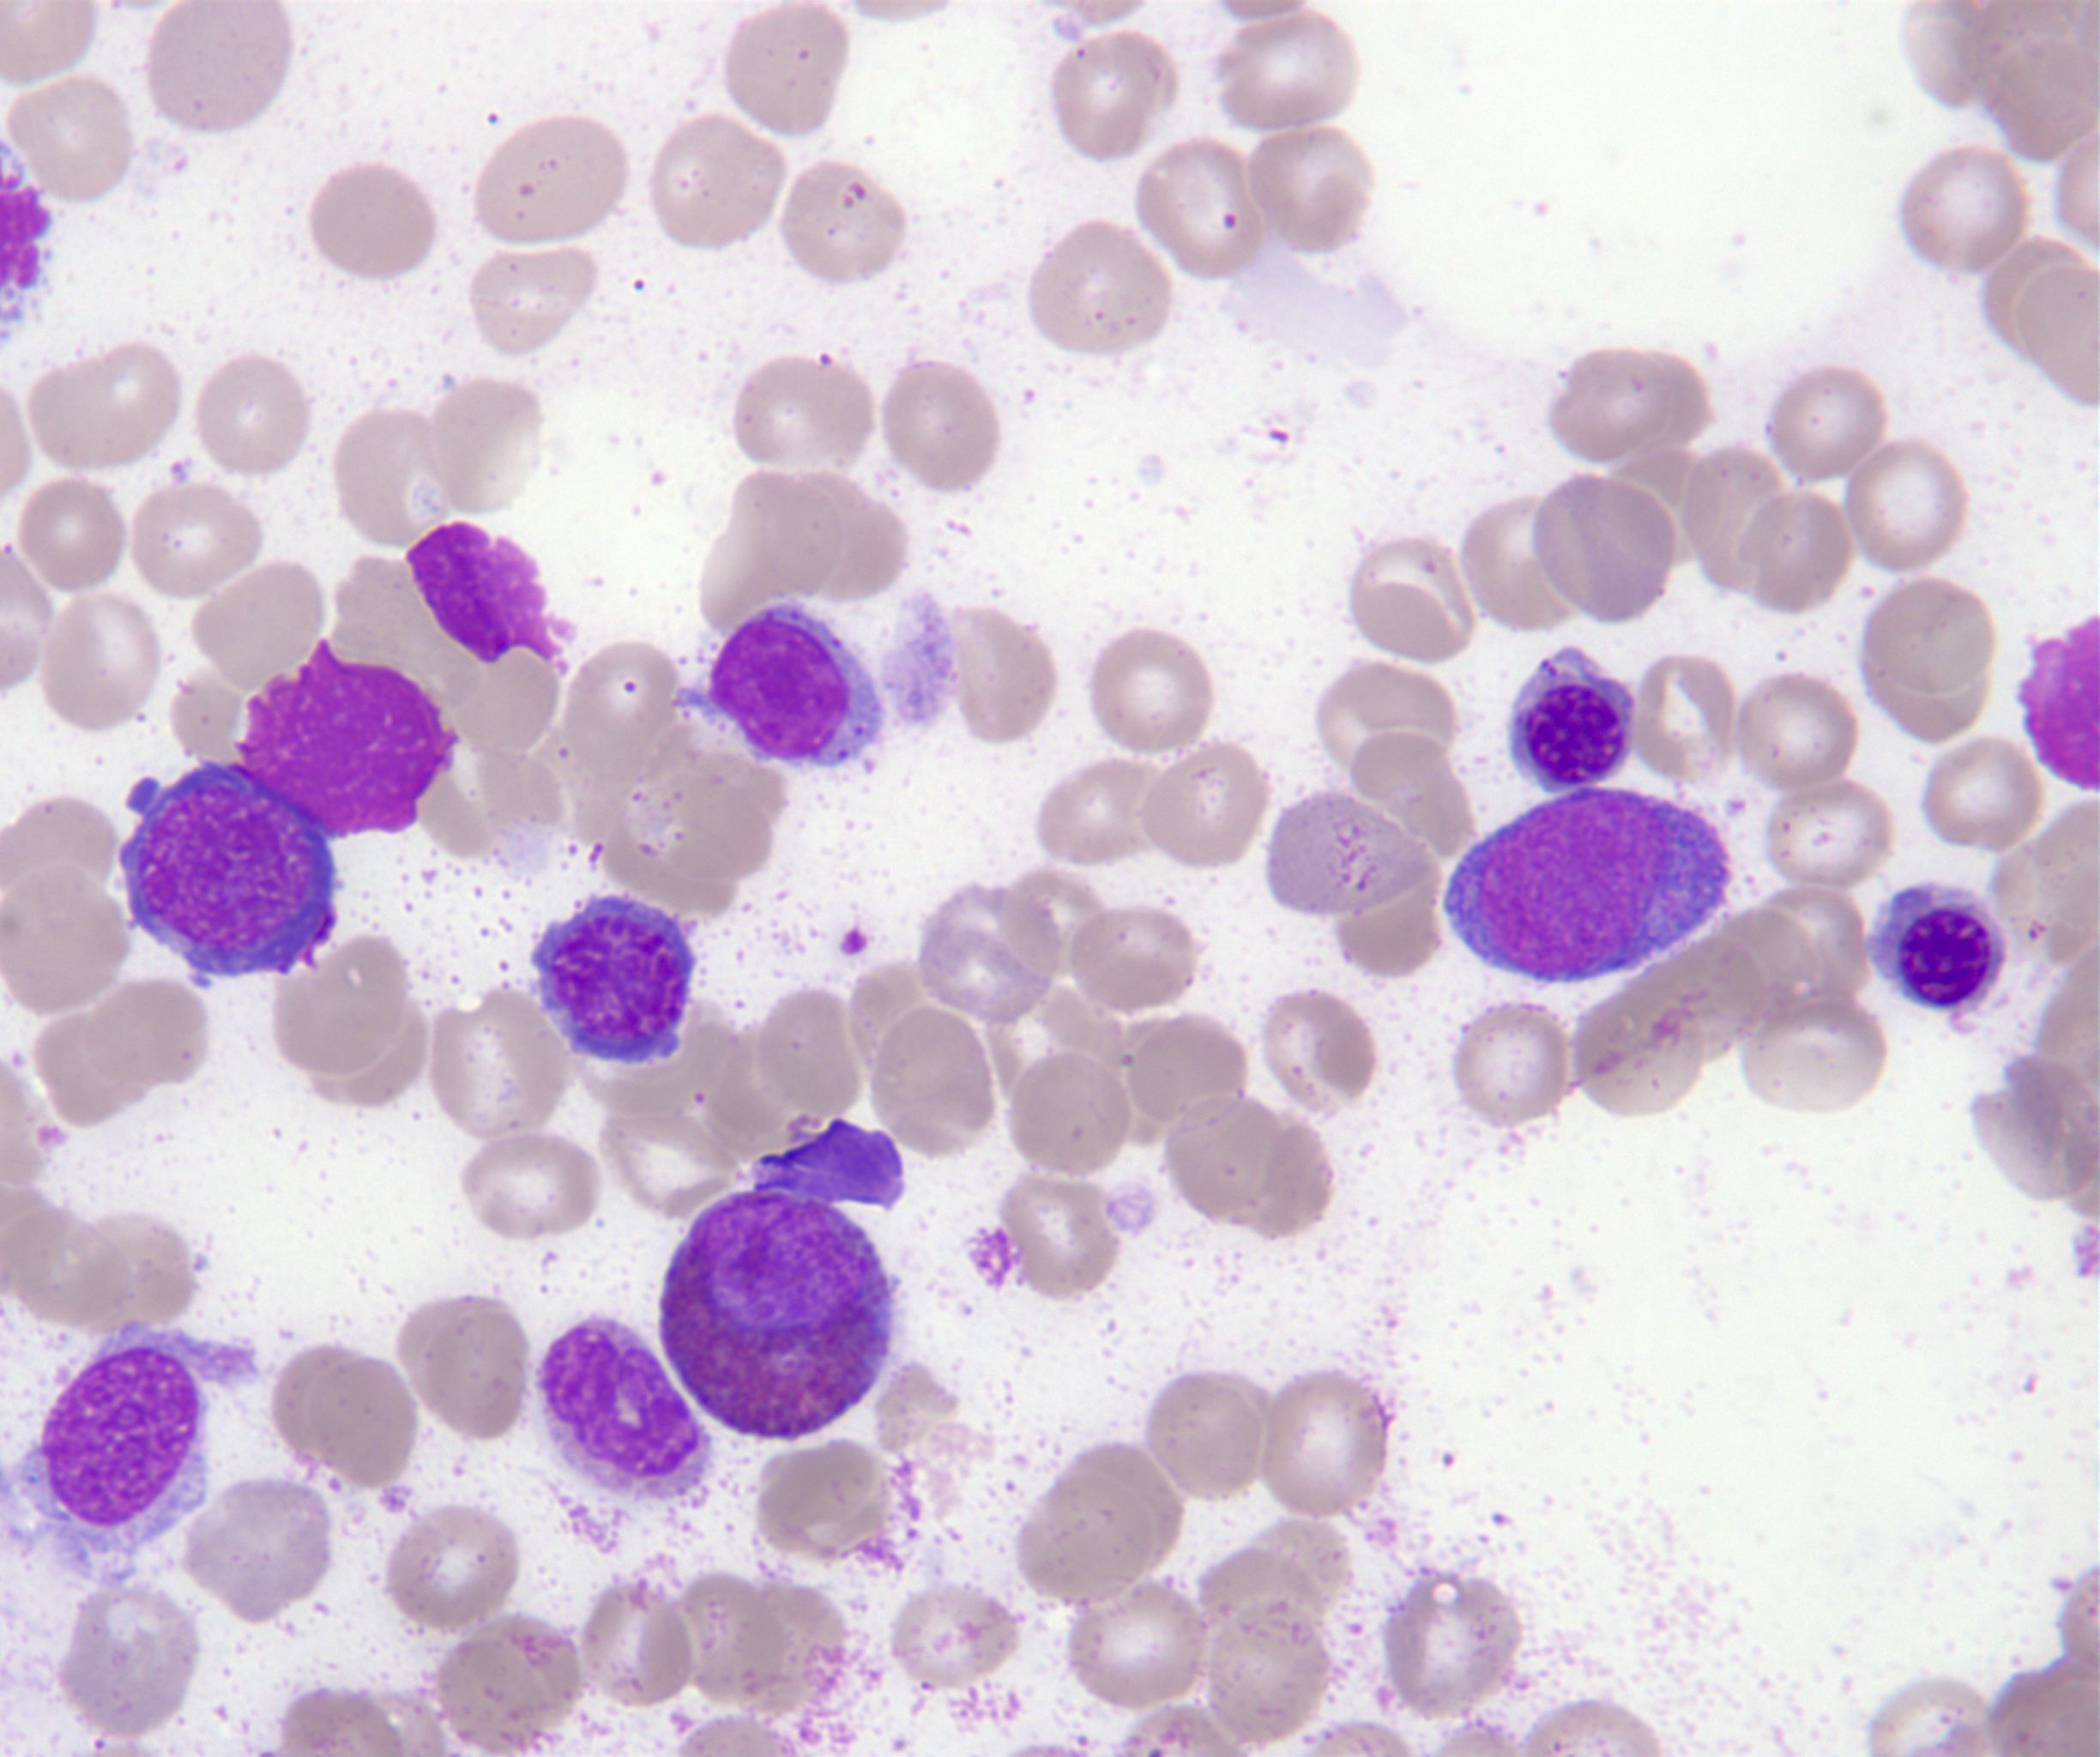1: (1448, 790, 1730, 982)
22: (119, 769, 335, 975), (535, 899, 692, 1061)
23: (1510, 649, 1633, 792), (1870, 883, 2006, 1005)
32: (712, 605, 884, 764)
5: (535, 1316, 712, 1504)
E2: (659, 1190, 893, 1438)
x: (5, 1323, 260, 1569), (232, 639, 462, 841), (406, 520, 570, 668)
